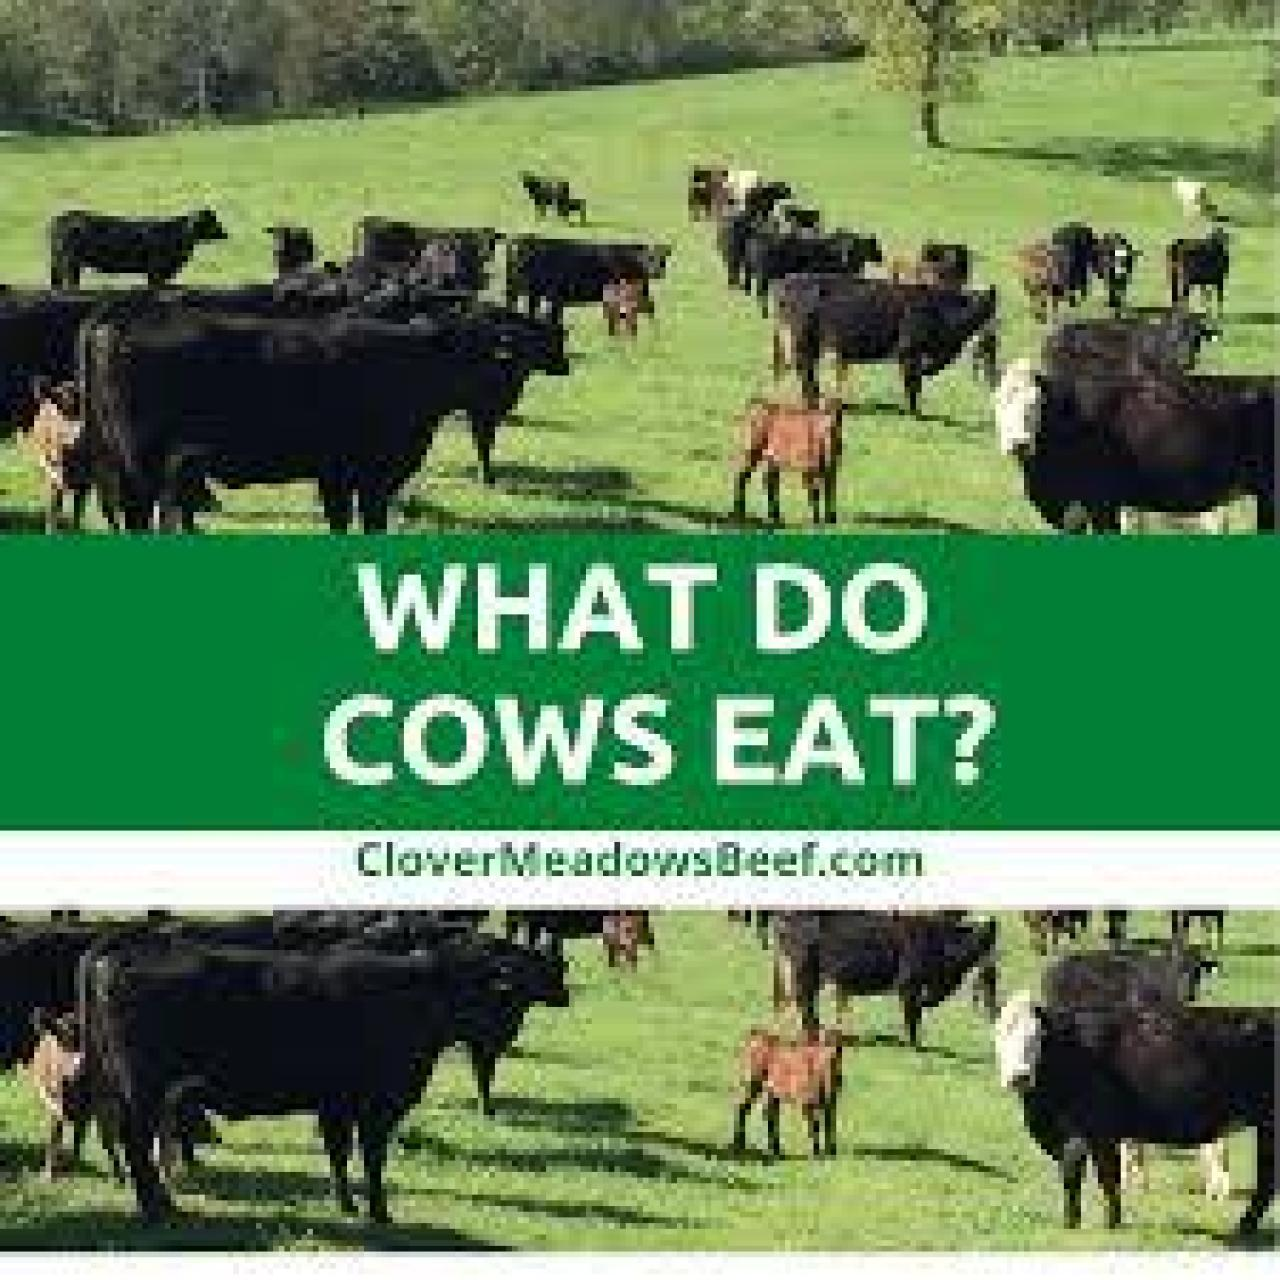cow: (60, 935, 538, 1232), (72, 305, 526, 532), (990, 973, 1280, 1246), (995, 355, 1280, 531), (762, 901, 1007, 1049), (771, 281, 1010, 418), (716, 1019, 853, 1160), (503, 233, 680, 341), (36, 207, 230, 299), (737, 393, 845, 517), (1170, 230, 1232, 309)
